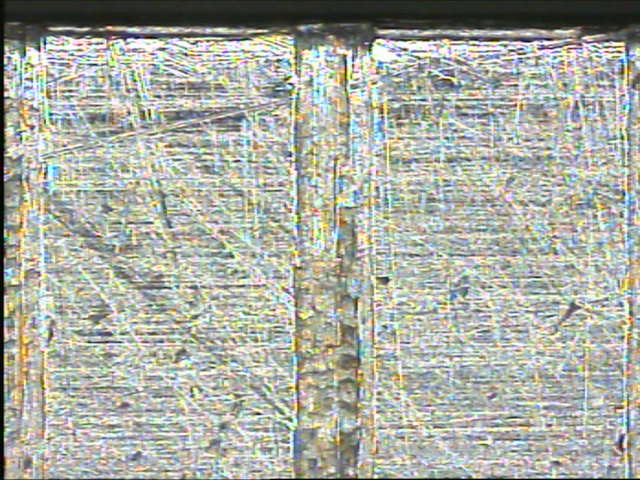line: (290, 22, 380, 476)
